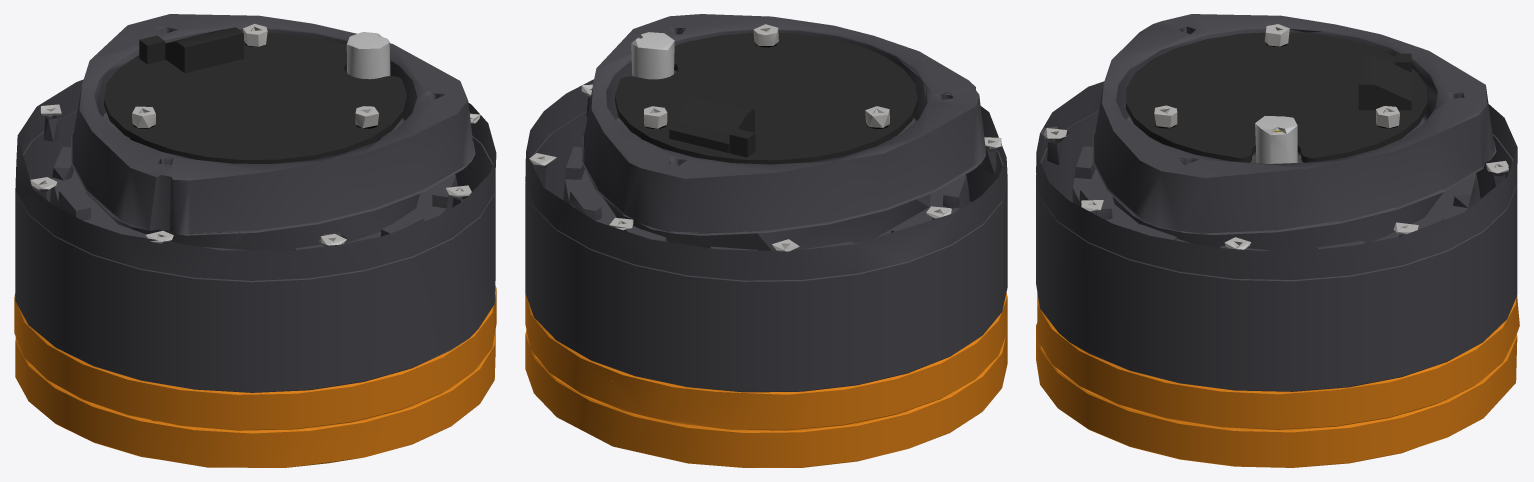
The model's file is motor1.dae.
The picture shows the model from 3 angles, left to right: view 1: azimuth 30°, elevation 25°; view 2: azimuth 150°, elevation 25°; view 3: azimuth 270°, elevation 25°; orthographic projection.
Parts seen in each view (by area): view 1: motor1; view 2: motor1; view 3: motor1.
Part boxes in pixels (<box>): motor1: <box>14,14,496,467</box>; motor1: <box>525,14,1007,467</box>; motor1: <box>1036,14,1519,467</box>.
Bounding box in the file's own units: 0.105 × 0.1054 × 0.073.
